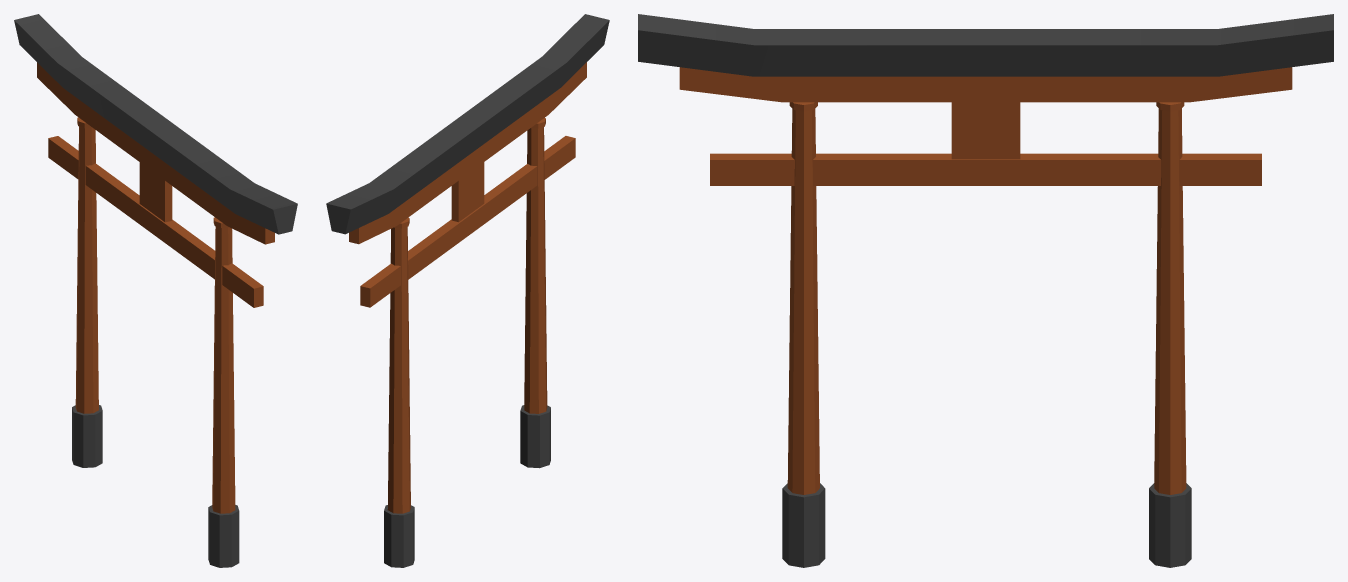
File: torii.fbx
3 renders of one model, left to right at view 1: azimuth 30°, elevation 25°; view 2: azimuth 150°, elevation 25°; view 3: azimuth 270°, elevation 25°, orthographic. The views are drawn at different scales.
Parts seen in each view (by area): view 1: pCylinder8; view 2: pCylinder8; view 3: pCylinder8.
Boxes of the visible parts, box(x1,y1,x2,y2) form: pCylinder8: box(14, 14, 297, 567); pCylinder8: box(326, 14, 609, 567); pCylinder8: box(638, 14, 1333, 567).
Bounding box in the file's own units: 0.4401 × 6.09 × 7.15.
